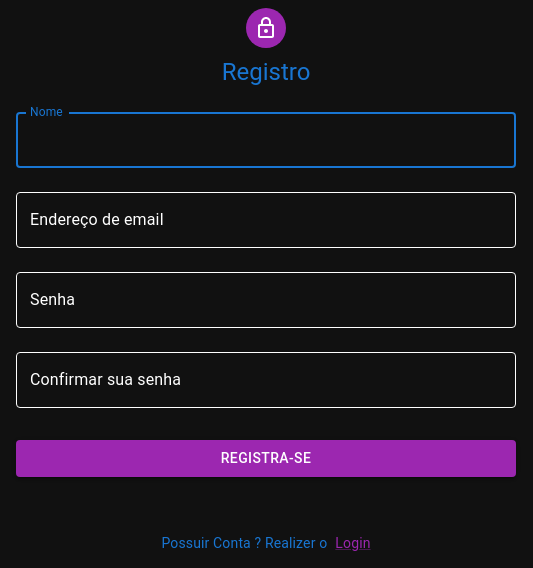
Register Page › should return error message, if the email field is empty
The width and height of the screenshot is (533, 568).
Type "myName" into the field labelled "Nome" at point(266, 140), box [16,112,516,168]
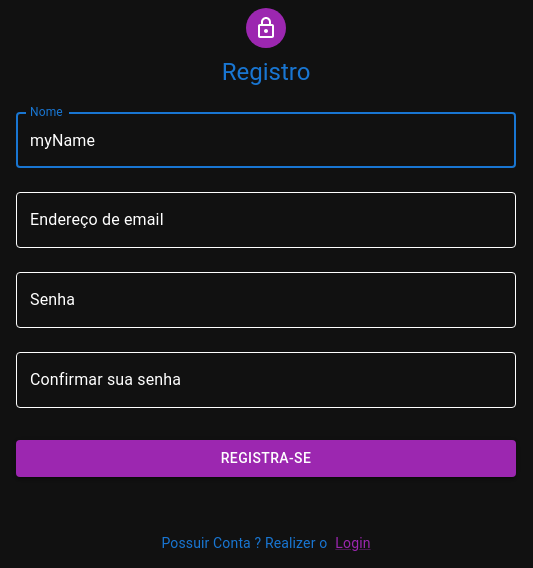
Click the button "Registra-se" at point(266, 458), box [16,440,516,476]
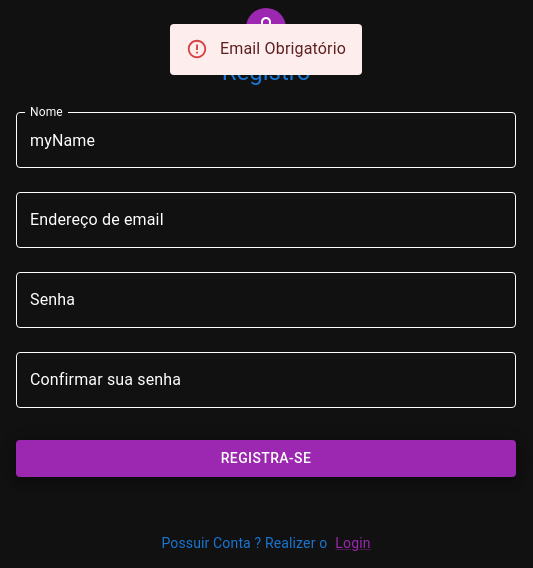
Check: the text "Email Obrigatório" is shown, box [220,39,346,58]
